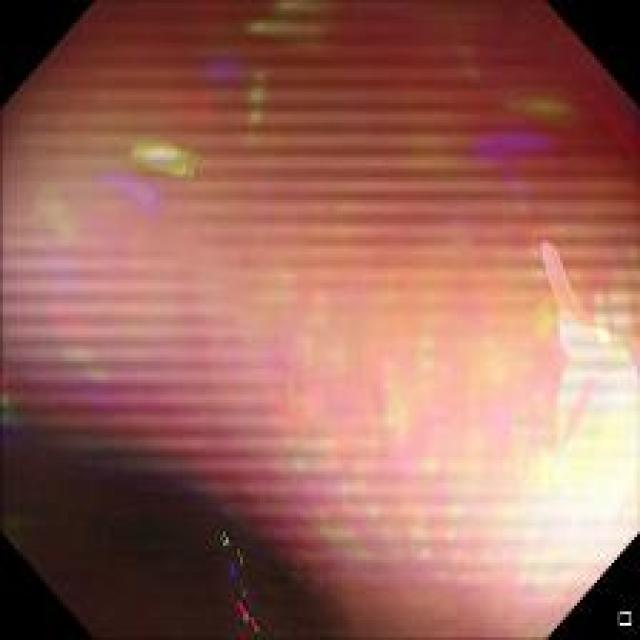color misalignment: (10, 10, 630, 625), (469, 116, 565, 216), (196, 518, 265, 630), (119, 135, 202, 178), (90, 162, 154, 212), (196, 58, 258, 88)
contrast: (16, 420, 336, 629)
saturation: (474, 281, 632, 581)
